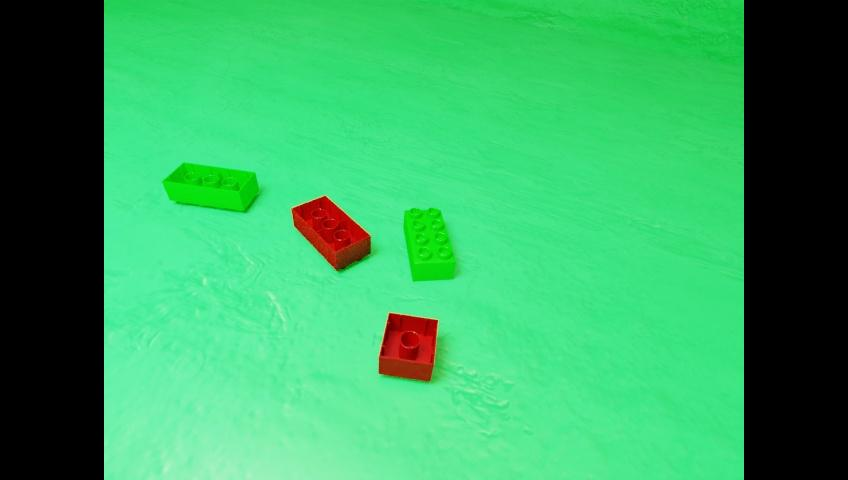2x2_red: (378, 311, 437, 381)
4x2_green: (161, 161, 258, 211), (403, 206, 455, 280)
4x2_red: (290, 194, 370, 270)
